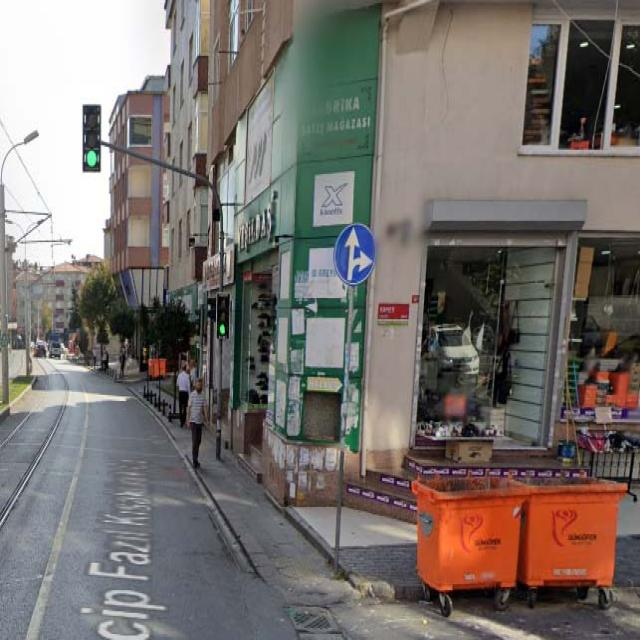ilerisag: (333, 222, 378, 284)
yesil: (82, 103, 100, 174), (217, 292, 229, 339)
